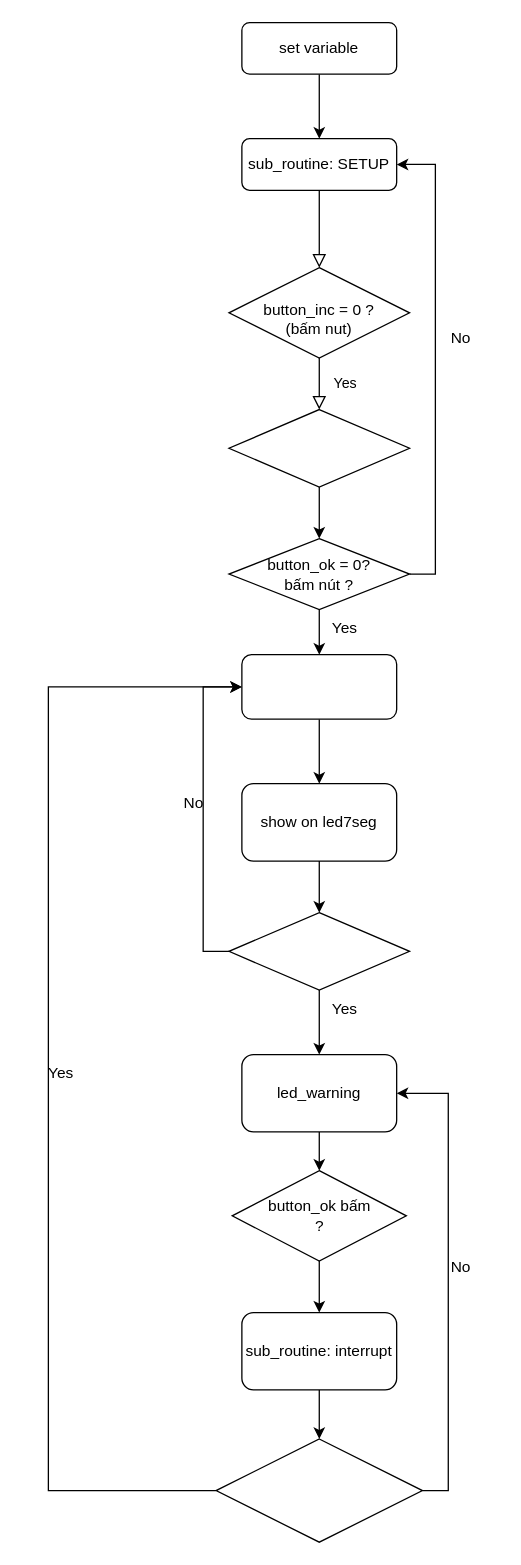
This 521x1565 diagram has some shape labels left out. The shapes that lost their labels are listed below. From the top down, each one's box as (x1, y1, x2, y2) in pixels, then its label:
(228, 408, 410, 487): number_limit +1
(241, 653, 397, 719): sub_routine: MAIN
(228, 911, 410, 990): sensor_input > number_limit ?
(215, 1438, 422, 1542): sensor_input < number_limit ?
